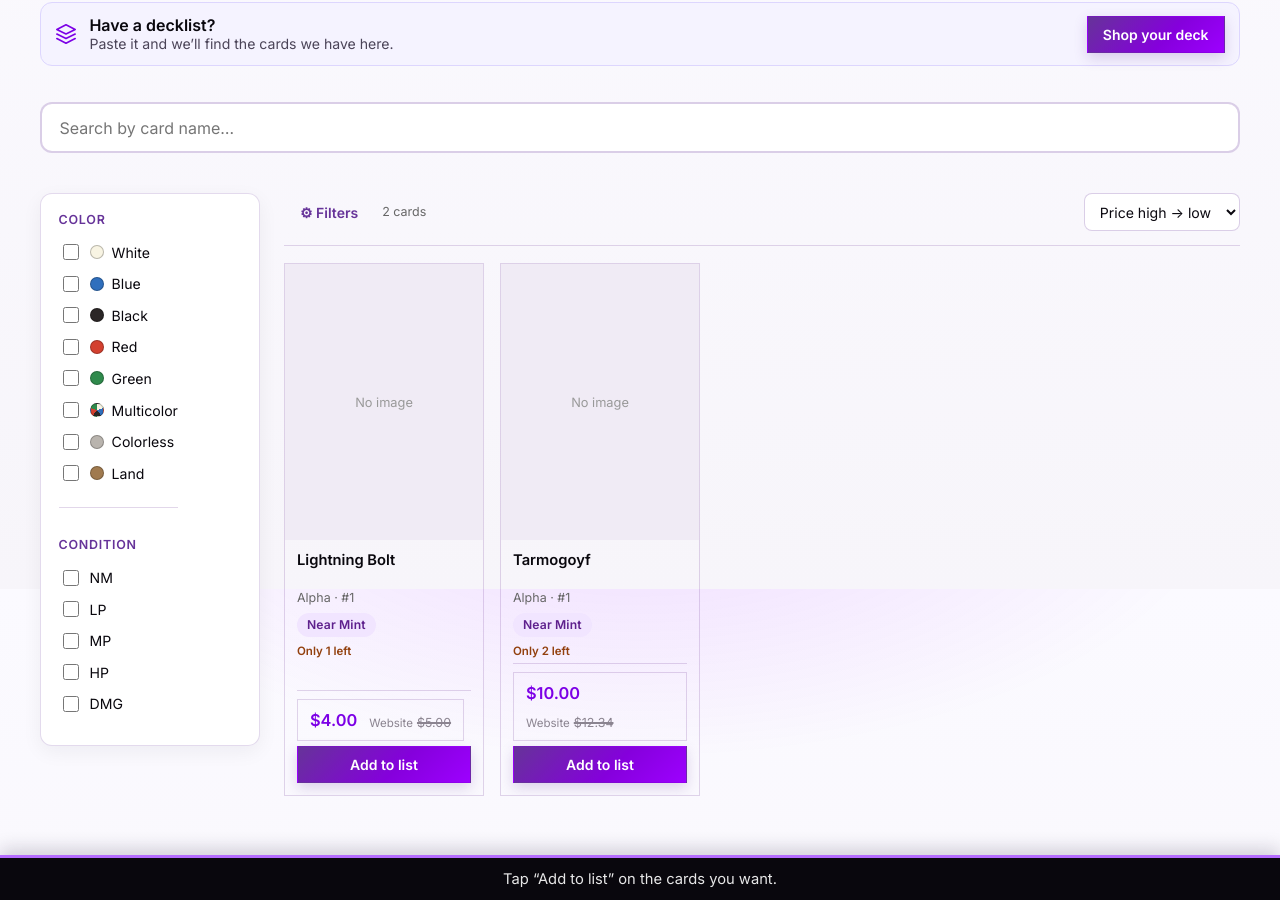
Scenario: the yard sale page › sends a list with a name and shows the pickup number
(page scrolled)
Click the button "Add to list" below "$4.00" at point(384, 764), box [297,746,471,783]
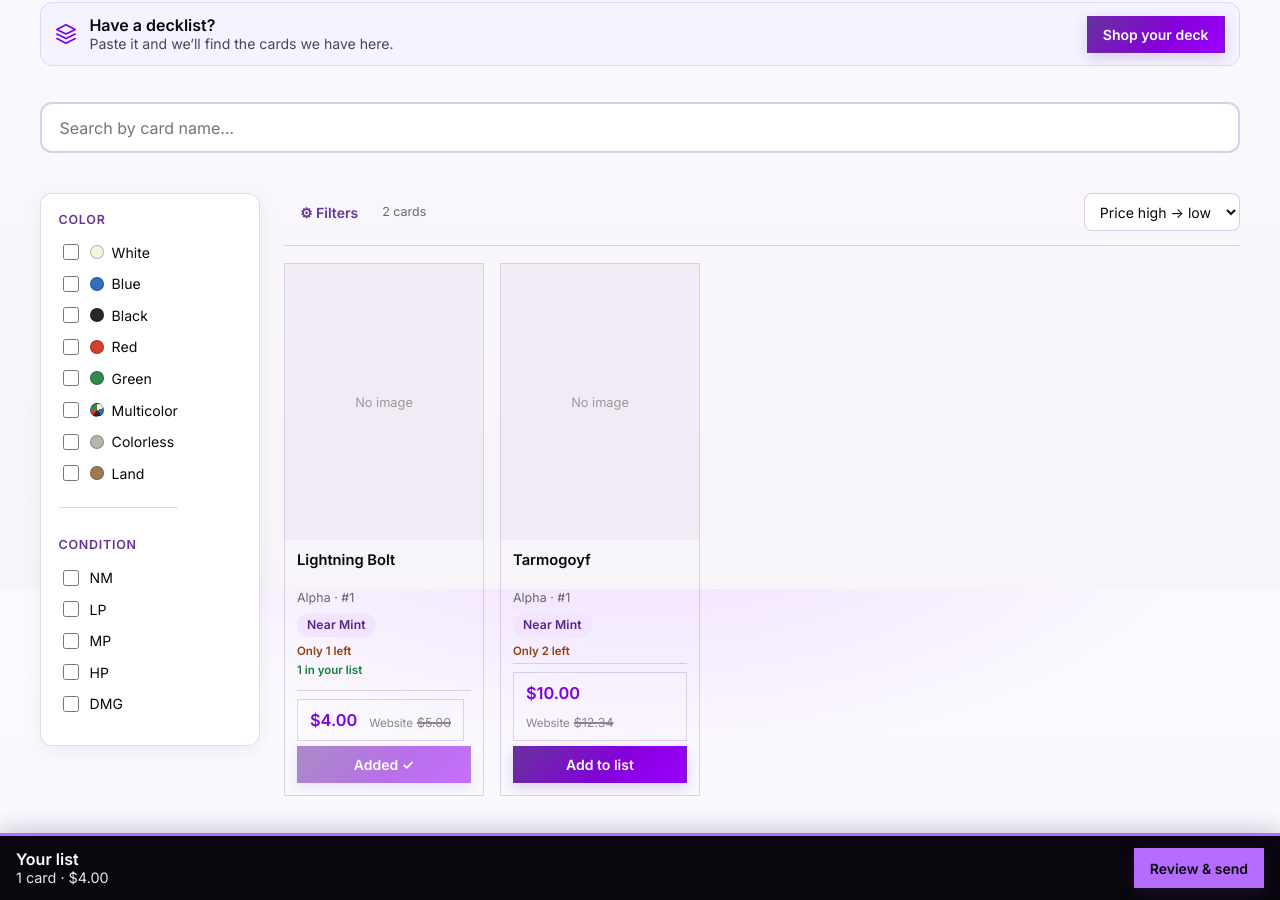
Check: the text "1 card · $4.00" is shown, box [16,869,109,887]
Click the button "Review & send" at point(1199, 868), box [1134,848,1264,888]
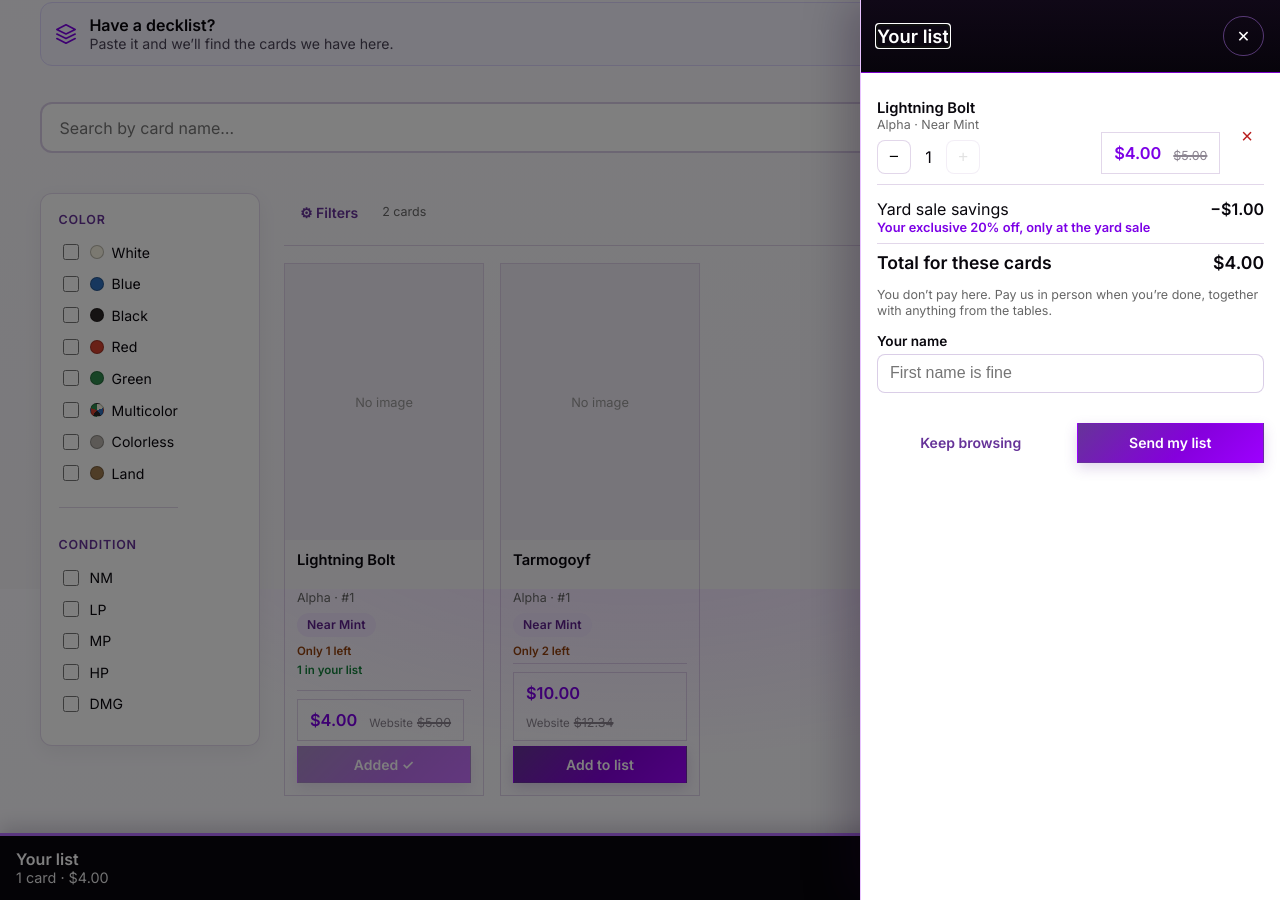
Check: the text "You don’t pay here. Pay us in person when you’re done, together with anything from the tables." is shown, box [877,287,1258,318]
Check: the text "Yard sale savings" shows "Your exclusive 20% off, only at the yard sale", box [877,220,1150,235]
Check: the text "−$1.00" is shown, box [1210,199,1264,219]
Click the button "Send my list" at point(1170, 443), box [1076,423,1264,463]
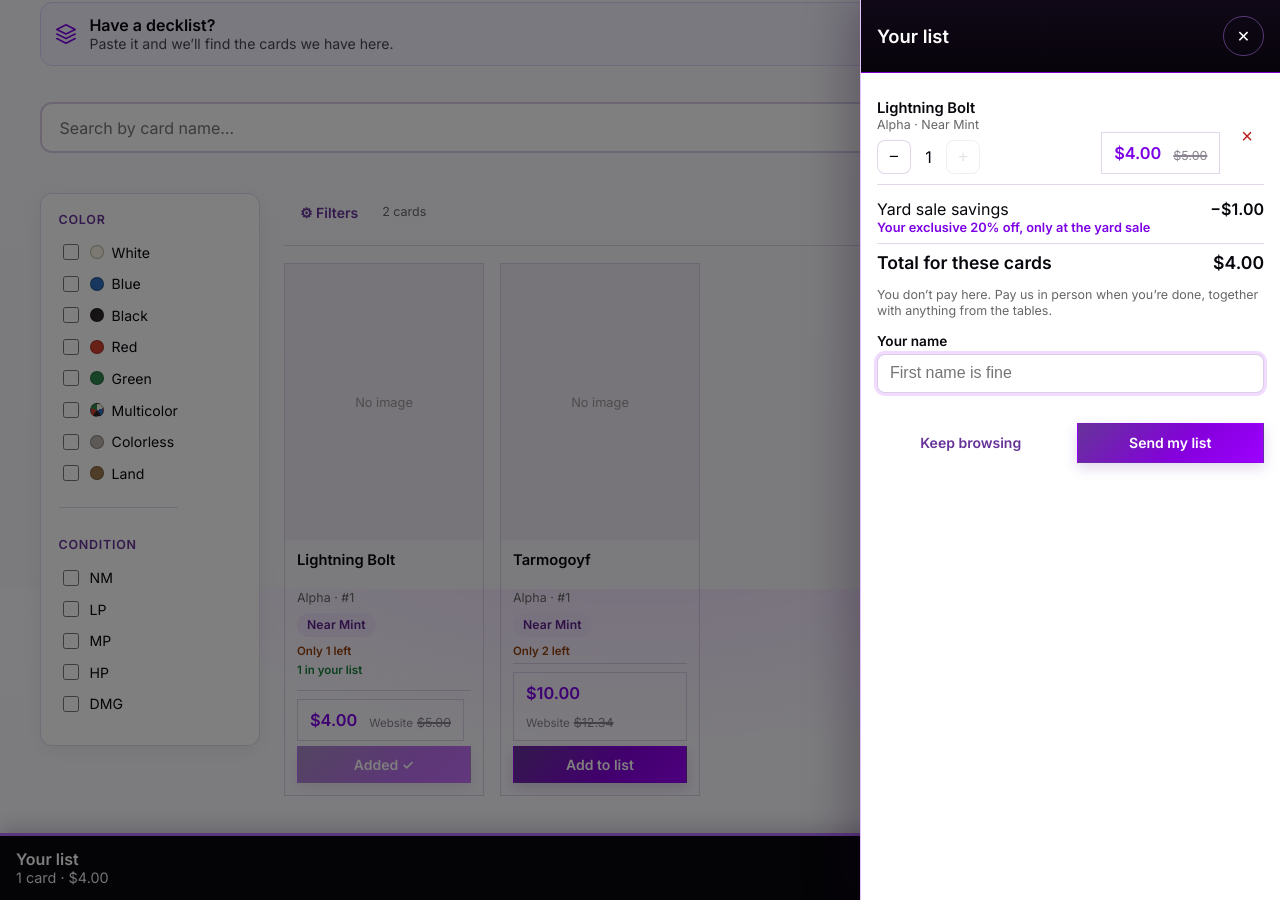
Type "  Ann " into the field labelled "Your name" at point(1070, 373), box [877,354,1264,393]
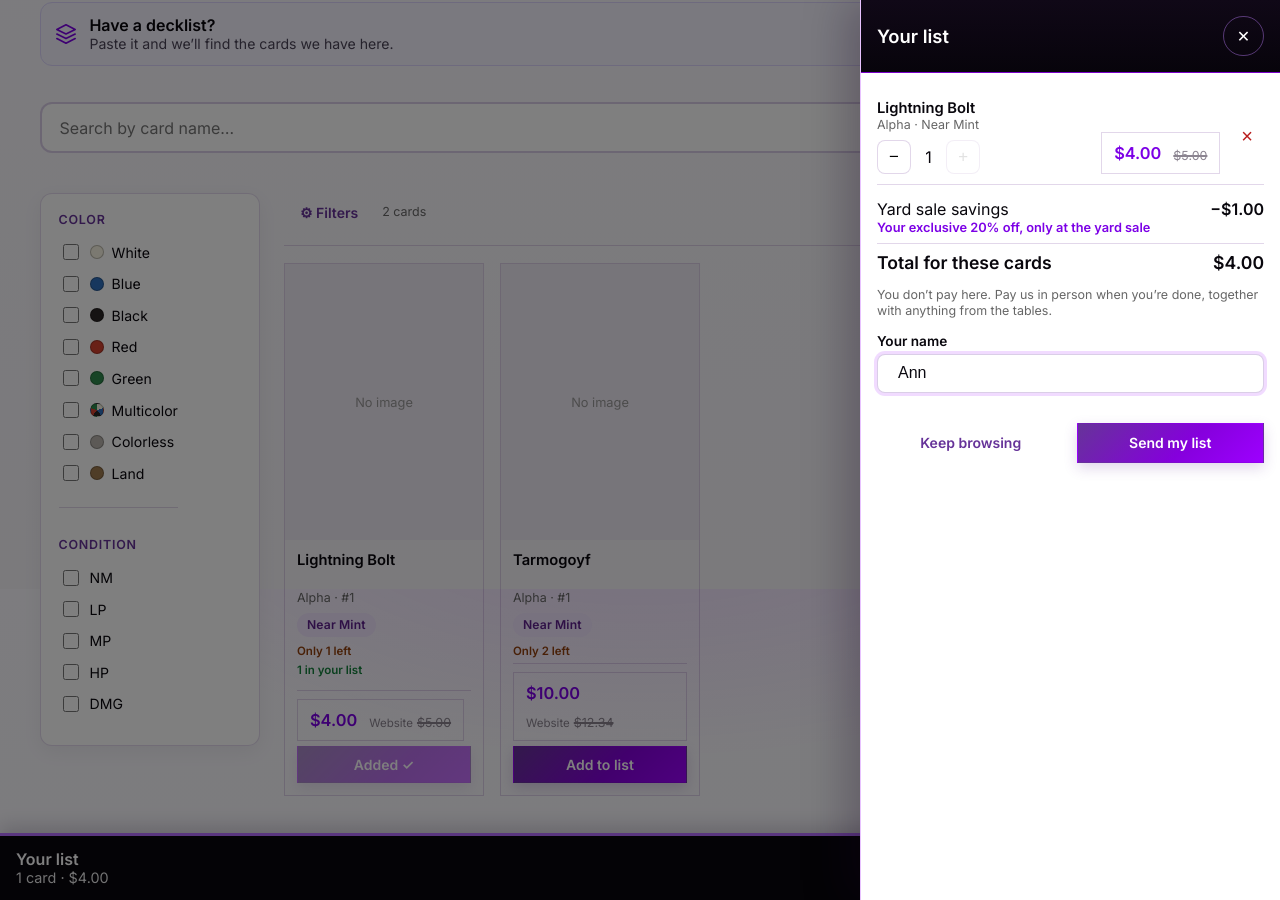
Click the button "Send my list" at point(1170, 443), box [1076,423,1264,463]
(page scrolled)
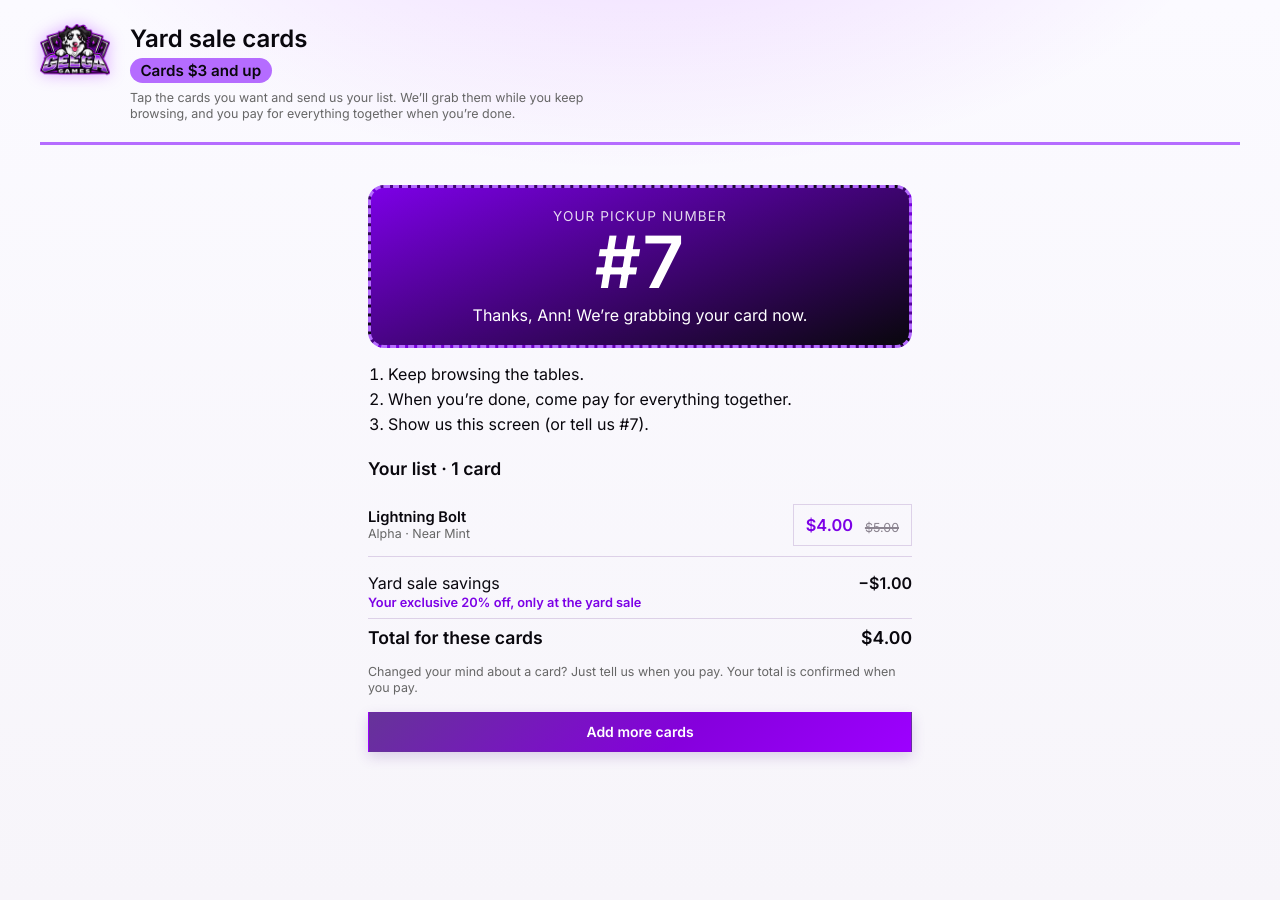
Check: the text "Yard sale savings" shows "Your exclusive 20% off, only at the yard sale", box [368,594,641,610]
Check: the text "#7" is shown, box [595,218,685,305]
Check: the text "Thanks, Ann! We’re grabbing your card now." is shown, box [473,305,808,325]
